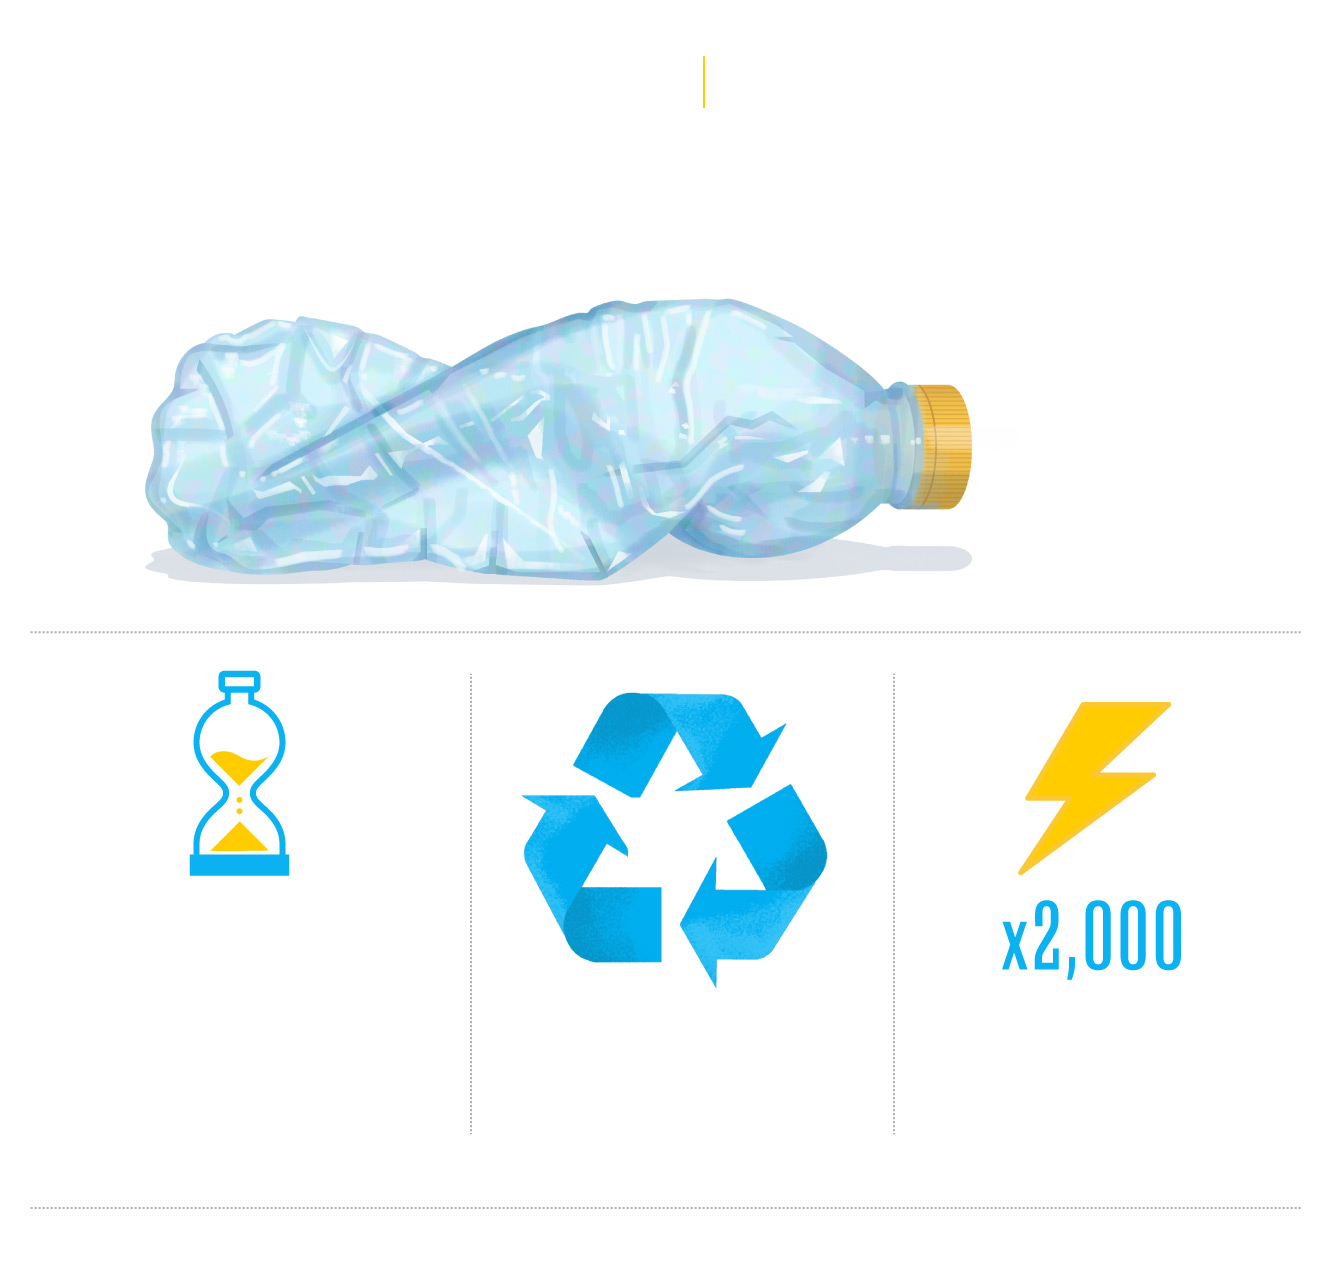plastic_bottle: (108, 86, 1083, 613)
